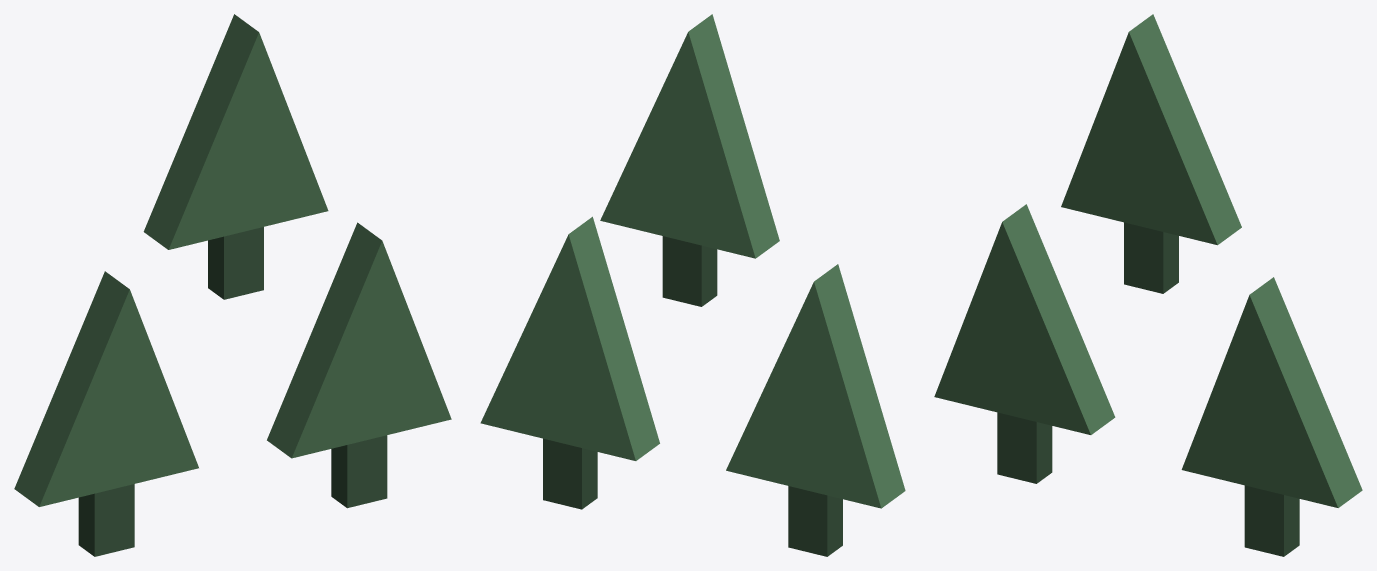
The model's file is adamantArrowheads.glb.
The picture shows the model from 3 angles, left to right: view 1: azimuth 30°, elevation 25°; view 2: azimuth 150°, elevation 25°; view 3: azimuth 330°, elevation 25°; orthographic projection. The views are drawn at different scales.
Visible parts, largest first — view 1: adamantArrowheads; view 2: adamantArrowheads; view 3: adamantArrowheads.
Part boxes in pixels (box(x1,y1,x2,y2)): adamantArrowheads: box(14, 14, 451, 556); adamantArrowheads: box(480, 14, 905, 556); adamantArrowheads: box(934, 14, 1362, 556).
Size of the model in its own units: 0.8428 by 1 by 0.1258.
